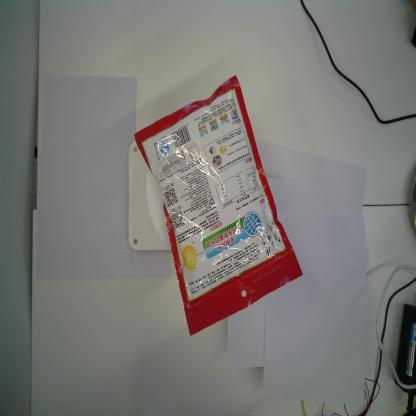Instant Drink: (133, 74, 304, 338)
